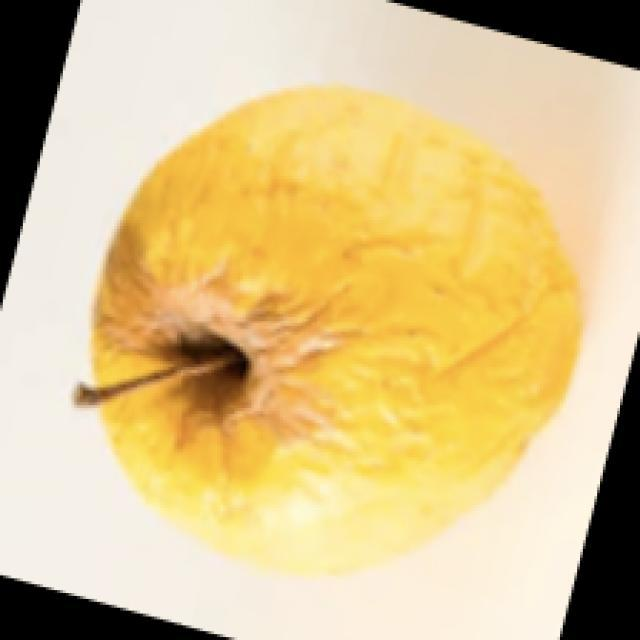Rotten: (97, 85, 585, 562)
